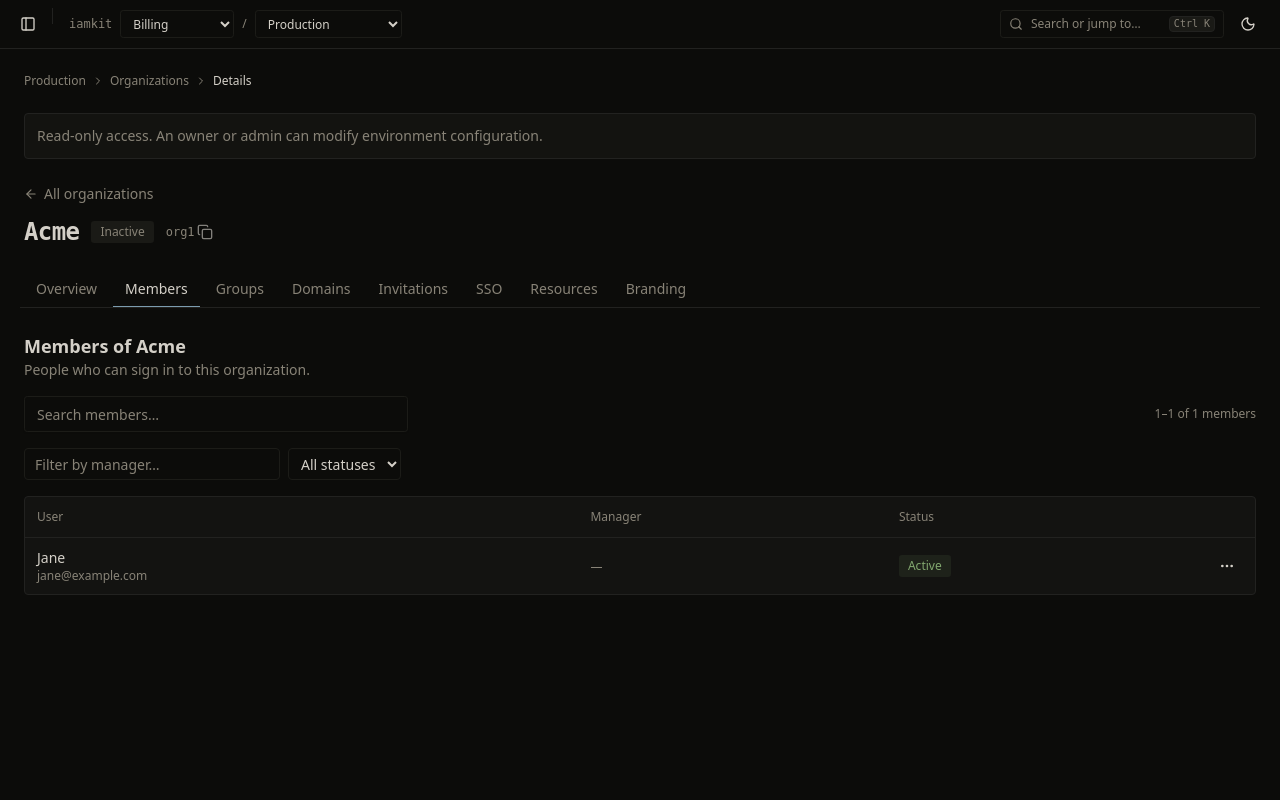
Test: shows a member effective roles with their source
Click the button named "Actions for Jane".
click(1227, 566)  # box left=1211, top=550, right=1243, bottom=582
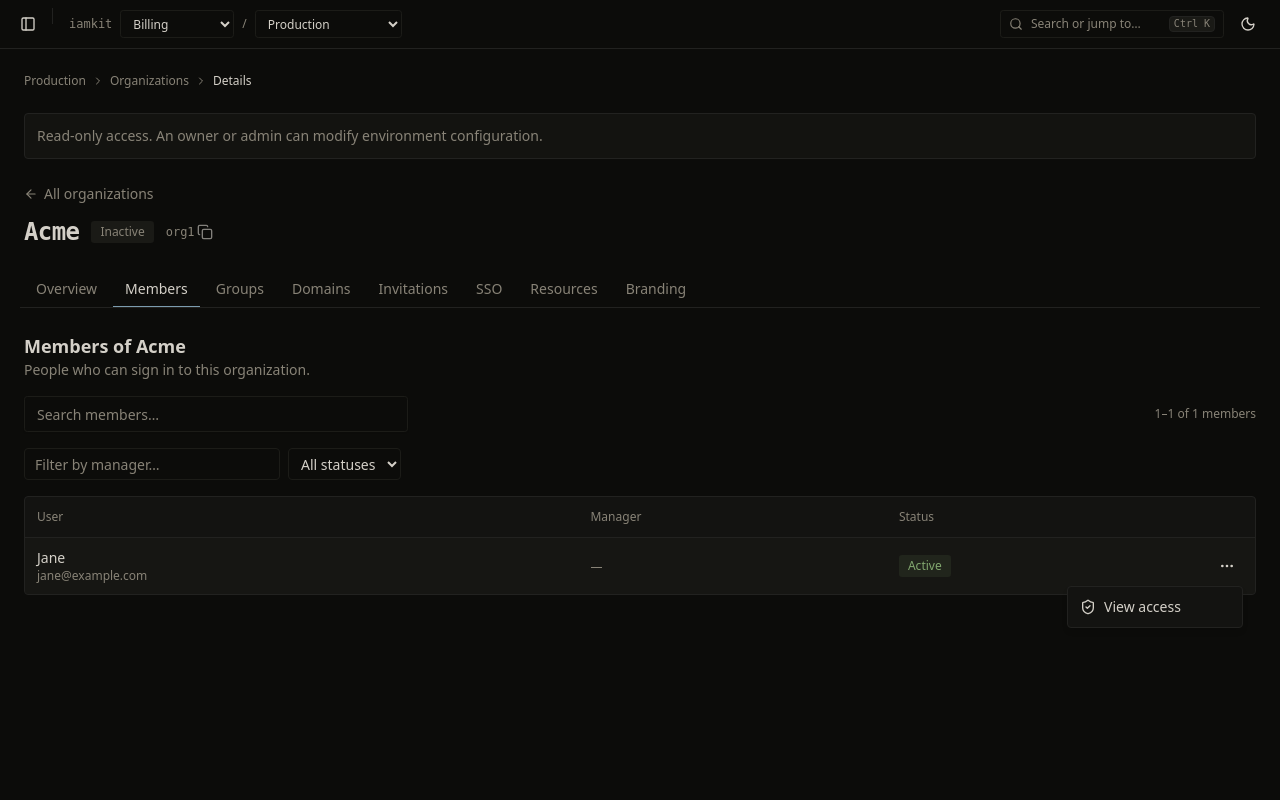
Click the menu item "View access".
click(1130, 606)  # box left=1080, top=597, right=1181, bottom=616
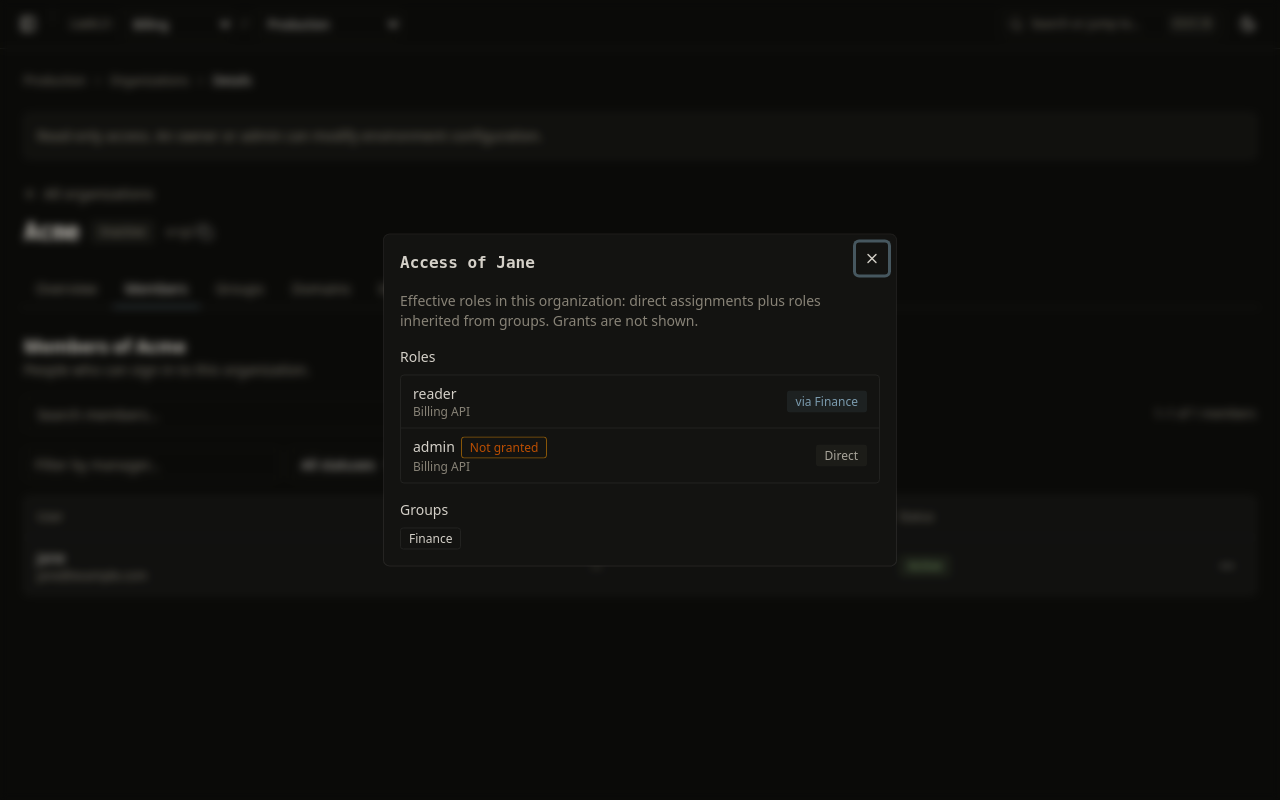
Now the text "reader" is shown, box left=413, top=384, right=456, bottom=402
Now the text "via Finance" is shown, box left=786, top=390, right=867, bottom=412
Now the text "Direct" is shown, box left=816, top=444, right=867, bottom=466
